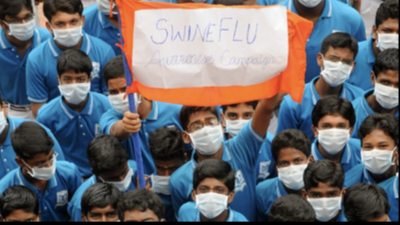with_mask: (188, 115, 223, 155), (358, 138, 395, 175), (108, 82, 142, 119), (57, 73, 92, 107), (307, 187, 342, 221), (195, 181, 227, 218), (277, 153, 308, 190), (321, 51, 353, 86), (318, 119, 349, 155), (51, 15, 84, 46), (223, 108, 254, 141), (25, 151, 56, 182), (372, 75, 398, 109), (6, 11, 34, 41), (102, 166, 133, 193), (375, 24, 398, 51)
